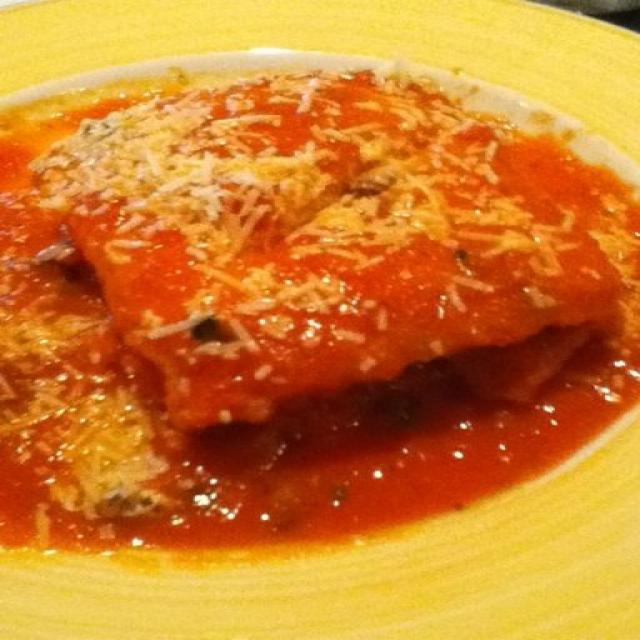Lasagna: (21, 87, 640, 406)
